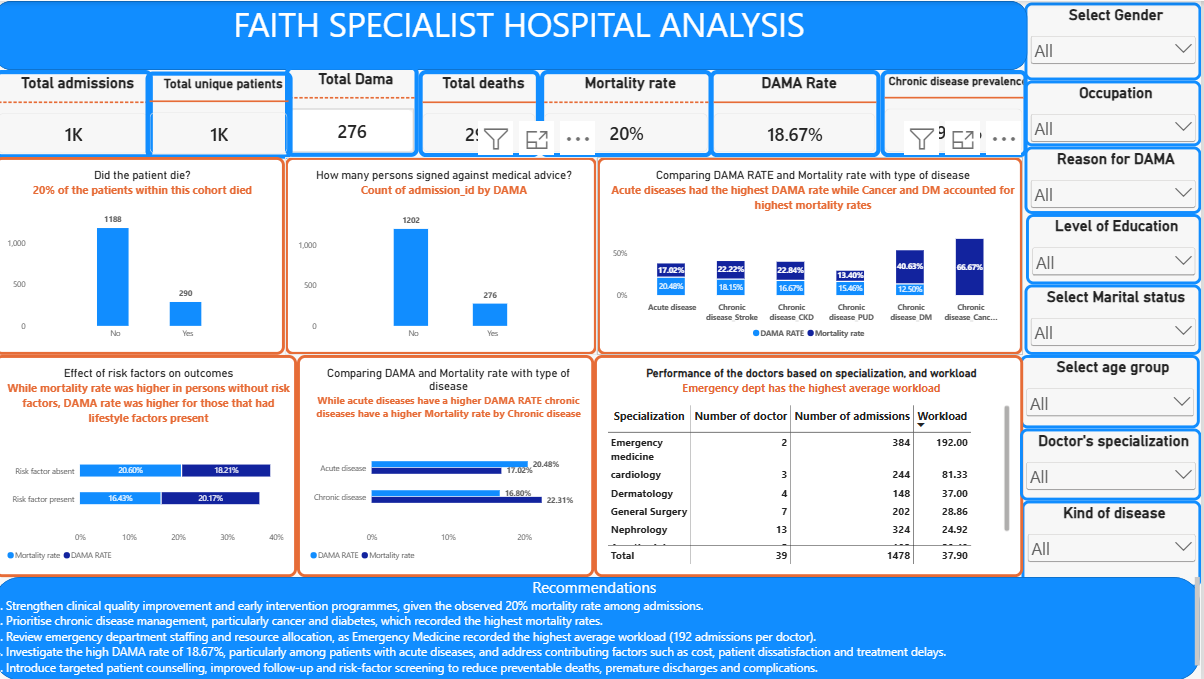

Layout of this report page (visuals, bound fields, positions):
{"tool":"powerbi","page":{"name":"Analysis","canvas":[1920,1080],"ordinal":0},"visuals":[{"type":"slicer","title":"Select age group","fields":{"Values":["Capstone vw_demographic_effects__on_dama.age_group"]},"box":[1632,563.1,286.3,116.9],"z":0},{"type":"slicer","title":"Occupation","fields":{"Values":["Capstone patient_details.occupation"]},"box":[1639.1,126.5,281.5,105],"z":1000},{"type":"slicer","title":"Level of Education","fields":{"Values":["Capstone patient_details.level_of_education"]},"box":[1641.5,338.8,279.2,112.1],"z":2000},{"type":"slicer","title":"Select Marital status","fields":{"Values":["Capstone patient_details.marital_status"]},"box":[1639.1,450.9,281.5,112.1],"z":3000},{"type":"slicer","title":"Select Gender","fields":{"Values":["Capstone patient_details.sex"]},"box":[1639.1,2.4,281.5,124.1],"z":4000},{"type":"shape","box":[0,0,1643.9,109.8],"z":5000},{"type":"cardVisual","title":"Total admissions","fields":{"Data":["Capstone admission_details.Total admissions"]},"box":[0,109.8,252.9,140.8],"z":6000},{"type":"slicer","title":"Reason for DAMA","fields":{"Values":["Capstone vw_reason_for_dama.reason_for_DAMA"]},"box":[1639.1,231.4,281.5,107.4],"z":7000},{"type":"cardVisual","title":"Total Dama","fields":{"Data":["Capstone admission_details.Total DAMA"]},"box":[462.9,102.6,212.3,145.5],"z":8000},{"type":"cardVisual","title":"Total deaths","fields":{"Data":["Capstone admission_details.Total Dead"]},"box":[675.2,109.8,193.3,138.4],"z":9000},{"type":"cardVisual","title":"Mortality rate","fields":{"Data":["Capstone admission_details.Mortality rate"]},"box":[868.5,109.8,274.4,138.4],"z":10000},{"type":"cardVisual","title":"DAMA Rate","fields":{"Data":["Capstone admission_details.DAMA RATE"]},"box":[1138.1,109.8,272,138.4],"z":11000},{"type":"slicer","title":"Kind of disease","fields":{"Values":["Capstone admission_details.Chronic disease"]},"box":[1634.4,794.5,286.3,138.4],"z":12000},{"type":"tableEx","title":"Performance of the doctors based on specialization, and workload","fields":{"Values":["Capstone doctors.specialization","Capstone doctors.doctor_id","Capstone admission_details.admission_id","Capstone admission_details.Workload"]},"box":[954.4,563.1,682.4,353.1],"z":13000},{"type":"barChart","title":"Effect of risk factors on outcomes","fields":{"Category":["Capstone risk_factor.Risk factor"],"Y":["Capstone admission_details.Mortality rate","Capstone admission_details.DAMA RATE"]},"box":[0,563.1,482,353.1],"z":14000},{"type":"columnChart","title":"Comparing DAMA RATE and Mortality rate with type of disease","fields":{"Category":["Capstone admission_details.Chronic diseases"],"Y":["Capstone admission_details.DAMA RATE","Capstone admission_details.Mortality rate"]},"box":[959.1,248.1,677.6,314.9],"z":15000},{"type":"clusteredBarChart","title":"Comparing DAMA and Mortality rate with type of disease","fields":{"Category":["Capstone admission_details.Chronic disease"],"Y":["Capstone admission_details.DAMA RATE","Capstone admission_details.Mortality rate"]},"box":[482,563.1,472.4,353.1],"z":16000},{"type":"slicer","title":"Doctor''s specialization","fields":{"Values":["Capstone doctors.specialization"]},"box":[1632,680,288.7,114.5],"z":17000},{"type":"cardVisual","title":"Total unique patients","fields":{"Data":["Capstone admission_details.Total unique patients"]},"box":[241,112.1,233.8,138.4],"z":18000},{"type":"cardVisual","title":"Chronic disease prevalence","fields":{"Data":["Capstone admission_details.Chronic Disease Prevalence"]},"box":[1410.1,109.8,233.8,138.4],"z":19000},{"type":"columnChart","title":"How many persons signed against medical advice?","fields":{"Category":["Capstone admission_details.DAMA"],"Y":["CountNonNull(Capstone admission_details.admission_id)"]},"box":[462.9,248.1,496.3,314.9],"z":20000},{"type":"columnChart","title":"Did the patient die?","fields":{"Category":["Capstone admission_details.dead"],"Y":["CountNonNull(Capstone admission_details.admission_id)"]},"box":[0,248.1,462.9,314.9],"z":21000},{"type":"shape","box":[0,916.2,1918.3,164.6],"z":22000},{"type":"textbox","box":[102.6,274.4,298.2,126.5],"z":23000},{"type":"textbox","box":[0,916.2,1918.3,164.6],"z":24000},{"type":"textbox","box":[100.2,100.2,300.6,50.1],"z":25000},{"type":"textbox","box":[100,100,300,300],"z":26000},{"type":"textbox","box":[0,0,1670.1,100.2],"z":27000}]}

Visuals, with their boxes in screenshot pixels (x1, y1, x2, y2), scaled from the page's 1920x1080 canvas onto the 1204x679 screenshot:
"Select age group" slicer: Rect(1023, 354, 1203, 428)
"Occupation" slicer: Rect(1028, 80, 1203, 146)
"Level of Education" slicer: Rect(1029, 213, 1203, 283)
"Select Marital status" slicer: Rect(1028, 283, 1203, 354)
"Select Gender" slicer: Rect(1028, 2, 1203, 80)
shape: Rect(0, 0, 1031, 69)
"Total admissions" cardVisual: Rect(0, 69, 159, 158)
"Reason for DAMA" slicer: Rect(1028, 145, 1203, 213)
"Total Dama" cardVisual: Rect(290, 65, 423, 156)
"Total deaths" cardVisual: Rect(423, 69, 545, 156)
"Mortality rate" cardVisual: Rect(545, 69, 717, 156)
"DAMA Rate" cardVisual: Rect(714, 69, 884, 156)
"Kind of disease" slicer: Rect(1025, 500, 1203, 587)
"Performance of the doctors based on specialization, and workload" tableEx: Rect(598, 354, 1026, 576)
"Effect of risk factors on outcomes" barChart: Rect(0, 354, 302, 576)
"Comparing DAMA RATE and Mortality rate with type of disease" columnChart: Rect(601, 156, 1026, 354)
"Comparing DAMA and Mortality rate with type of disease" clusteredBarChart: Rect(302, 354, 598, 576)
"Doctor''s specialization" slicer: Rect(1023, 428, 1203, 500)
"Total unique patients" cardVisual: Rect(151, 70, 298, 157)
"Chronic disease prevalence" cardVisual: Rect(884, 69, 1031, 156)
"How many persons signed against medical advice?" columnChart: Rect(290, 156, 601, 354)
"Did the patient die?" columnChart: Rect(0, 156, 290, 354)
shape: Rect(0, 576, 1203, 678)
textbox: Rect(64, 173, 251, 252)
textbox: Rect(0, 576, 1203, 678)
textbox: Rect(63, 63, 251, 94)
textbox: Rect(63, 63, 251, 251)
textbox: Rect(0, 0, 1047, 63)
